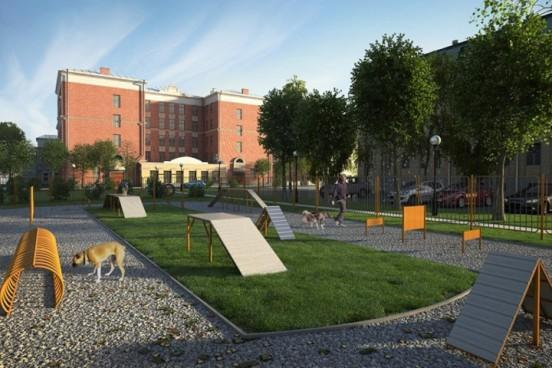normal_dogs: (70, 241, 128, 283), (302, 208, 335, 230)
